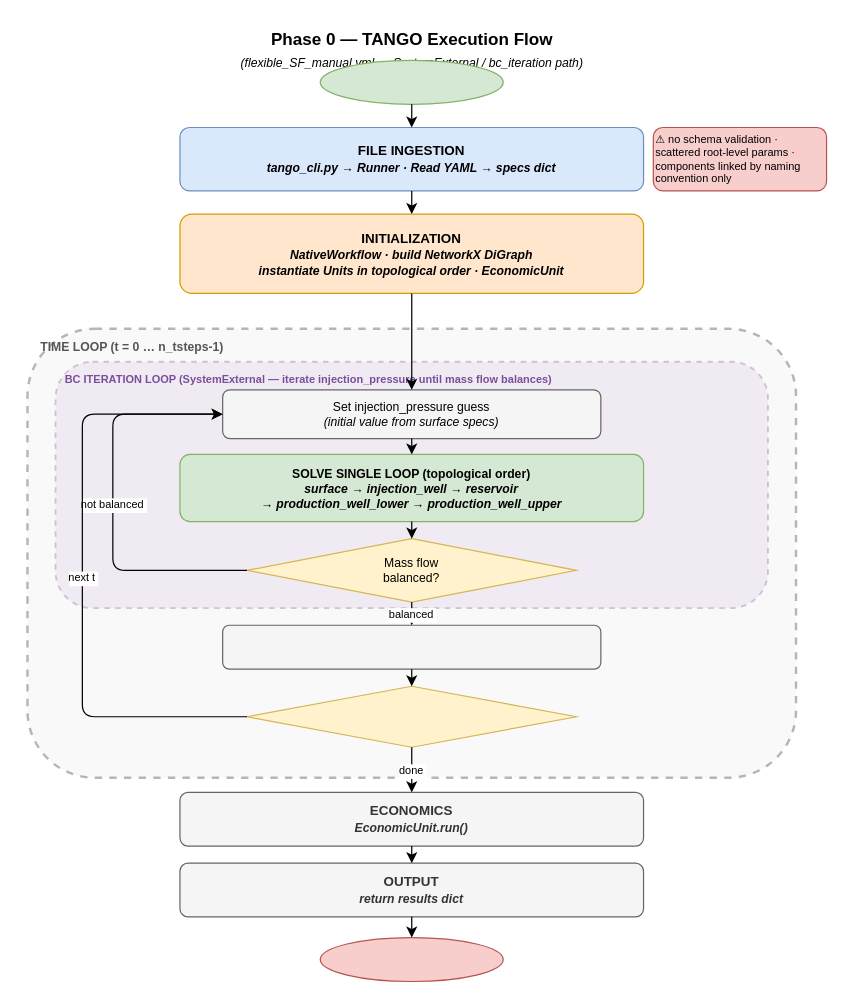
Image size: 848x1003. Some labels were removed from this diagram. Each missing label, with the centre of its shape:
"END" belongs at (x=411, y=958).
"Record timestep results (ad-hoc subset — not all state variables are captured)" belongs at (x=411, y=646).
"START" belongs at (x=411, y=81).
"t < n_tsteps-1?" belongs at (x=411, y=716).
